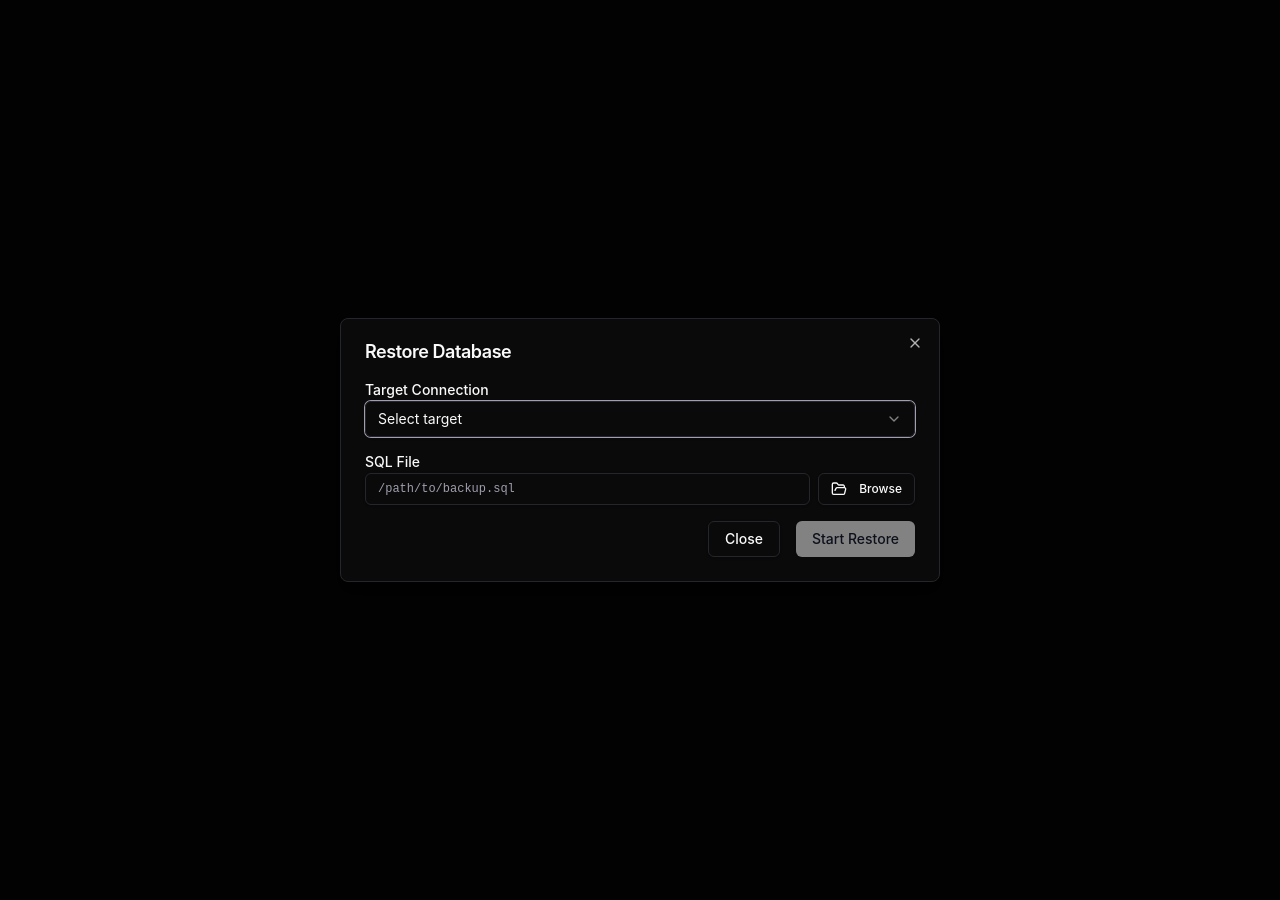
Test: enables start button when all fields are filled
Click the dropdown "Select target" at (420, 418), box [365,401,915,437]
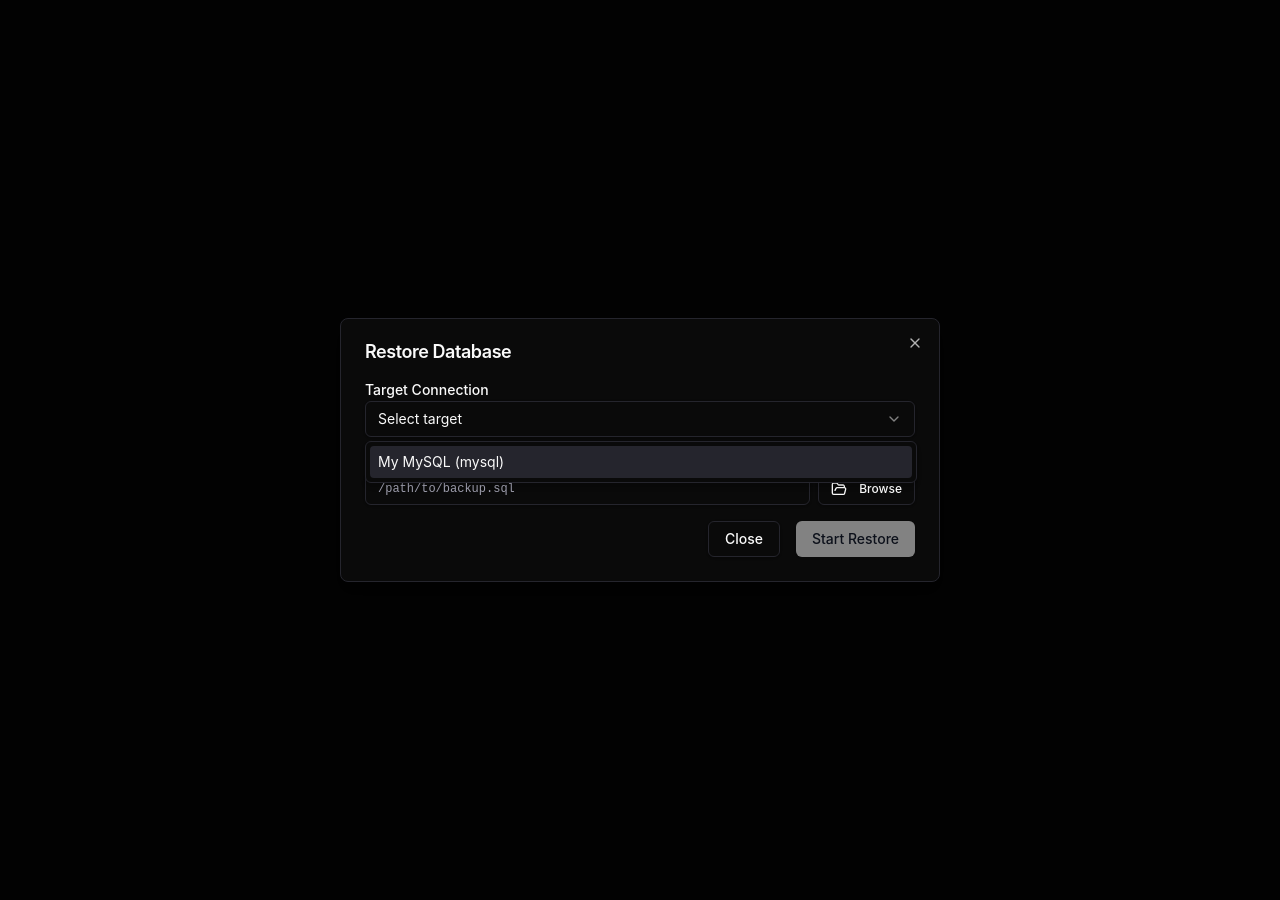
Click the option "My MySQL (mysql)" at (414, 462), box [370,446,912,478]
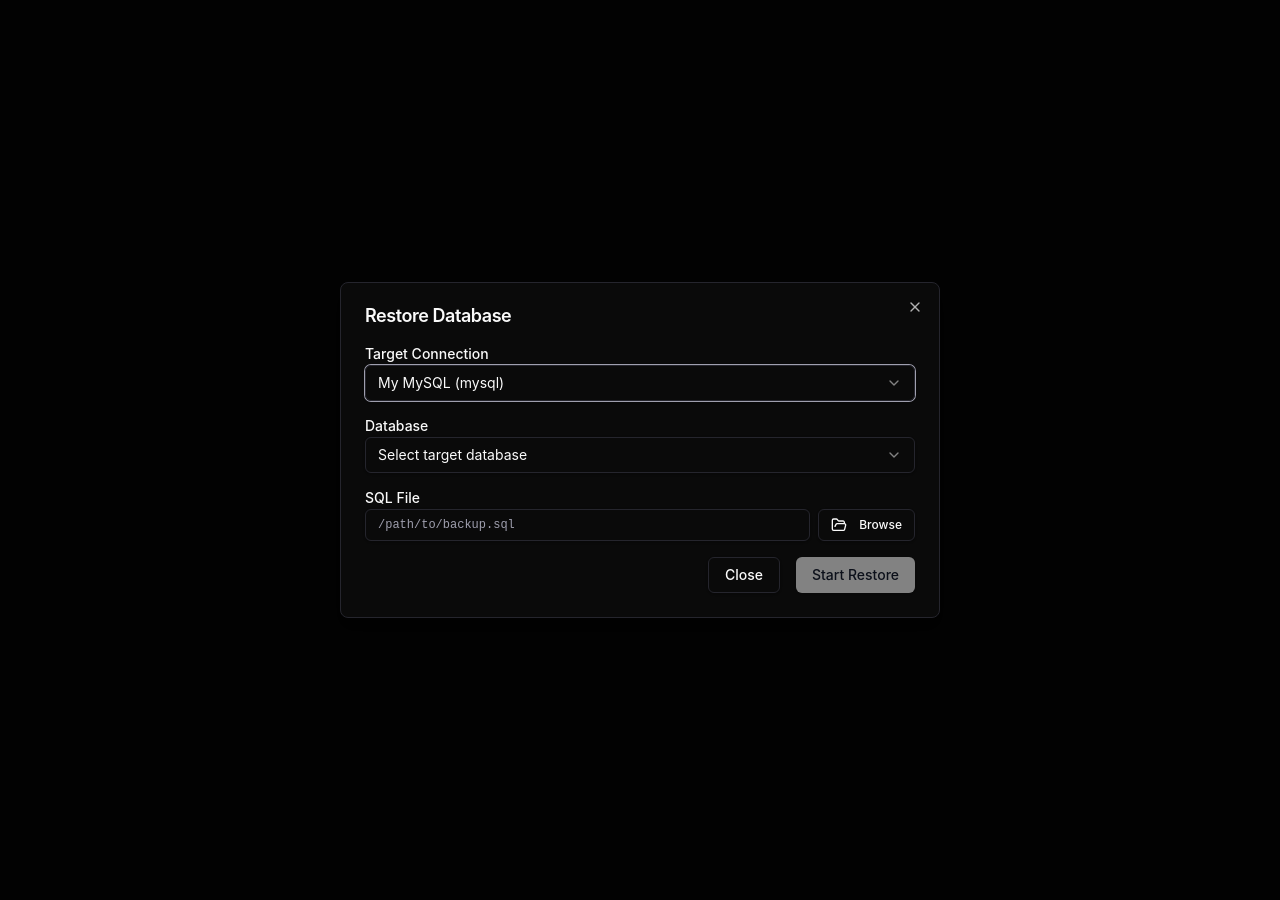
Result: the text "Select target database" is shown at [378,445,527,465]
Click the dropdown "Select target database" at (453, 454), box [365,437,915,473]
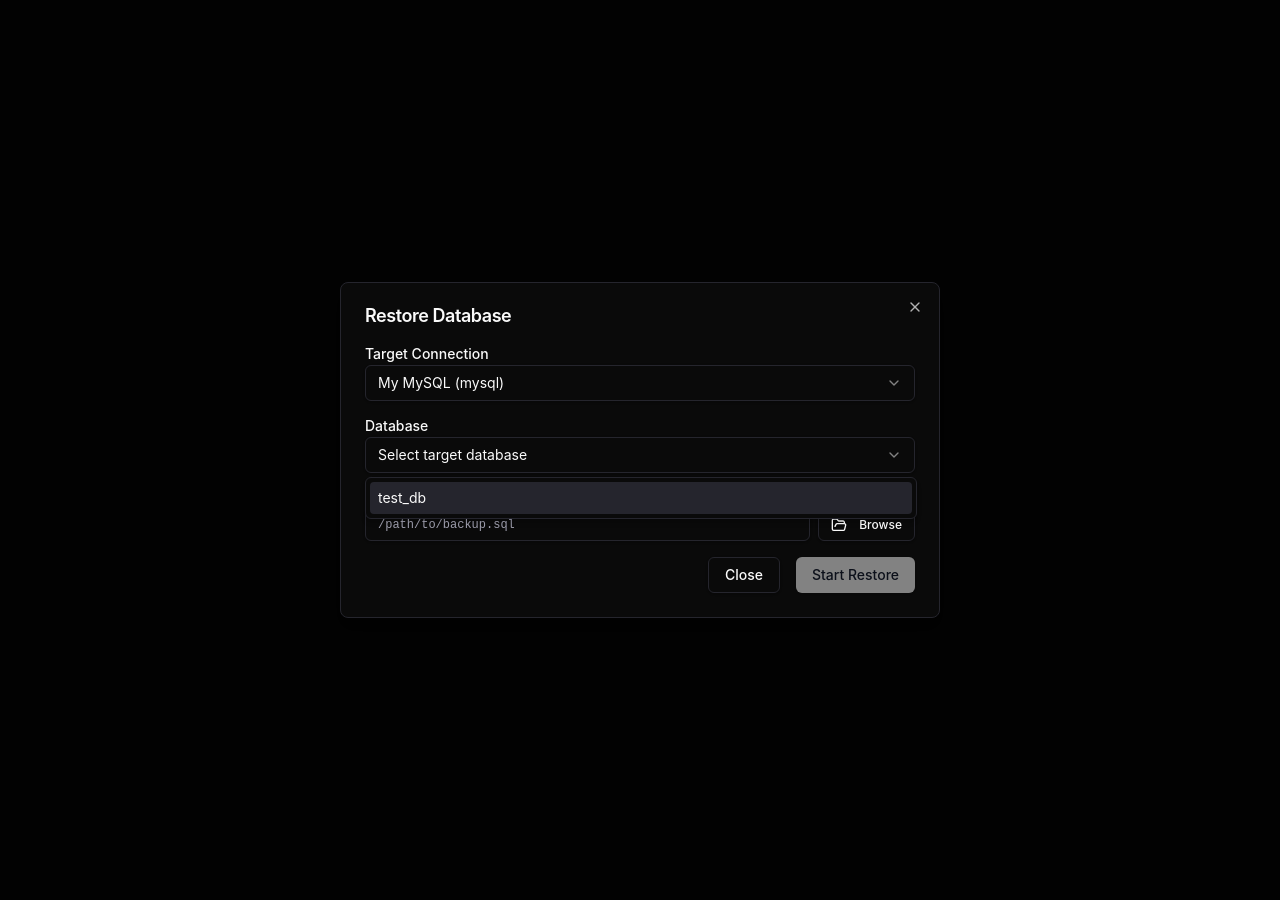
Click the option "test_db" at (402, 498), box [370,482,912,514]
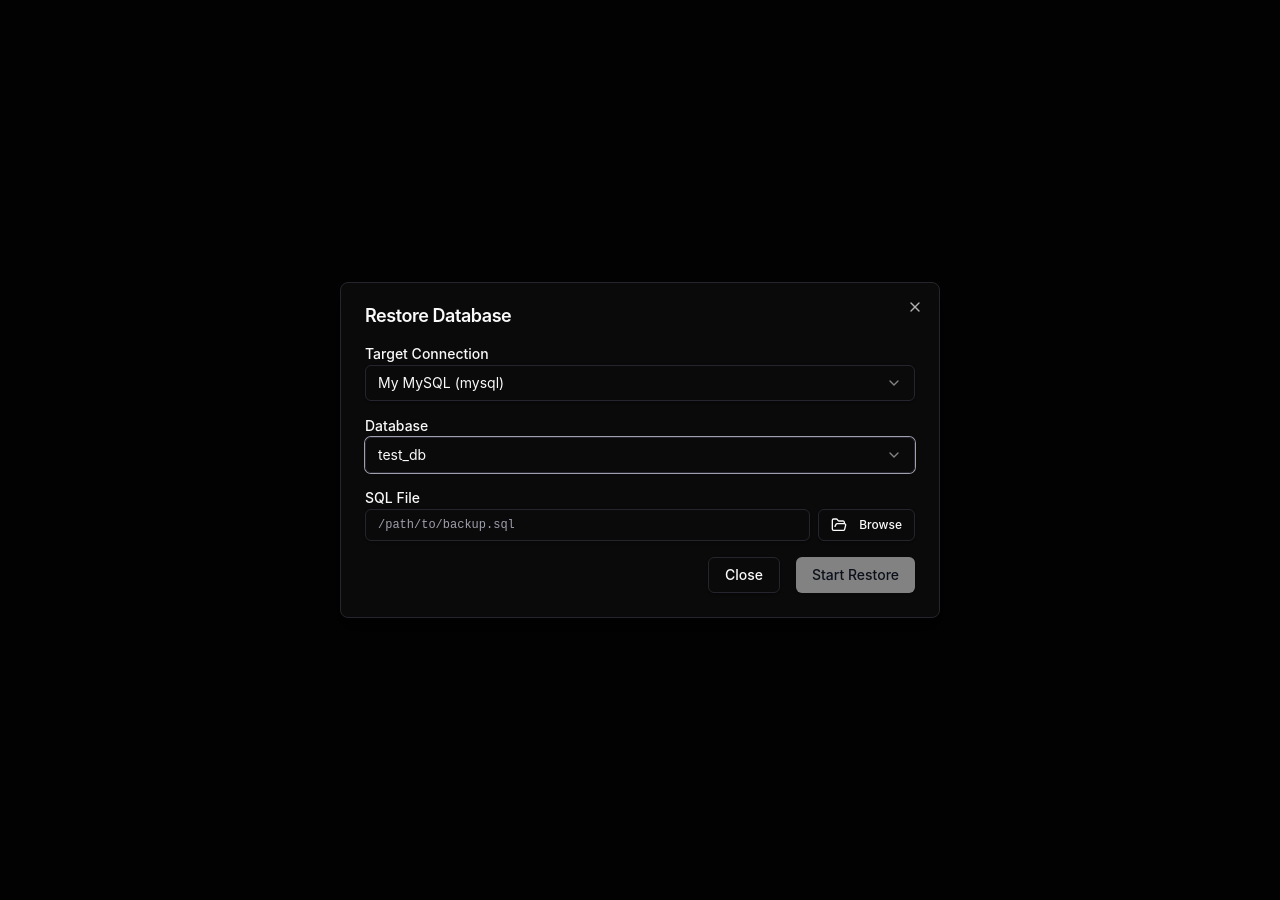
Type "/tmp/restore.sql" into the field with placeholder "/path/to/backup.sql" at (588, 525), box [365,509,810,541]
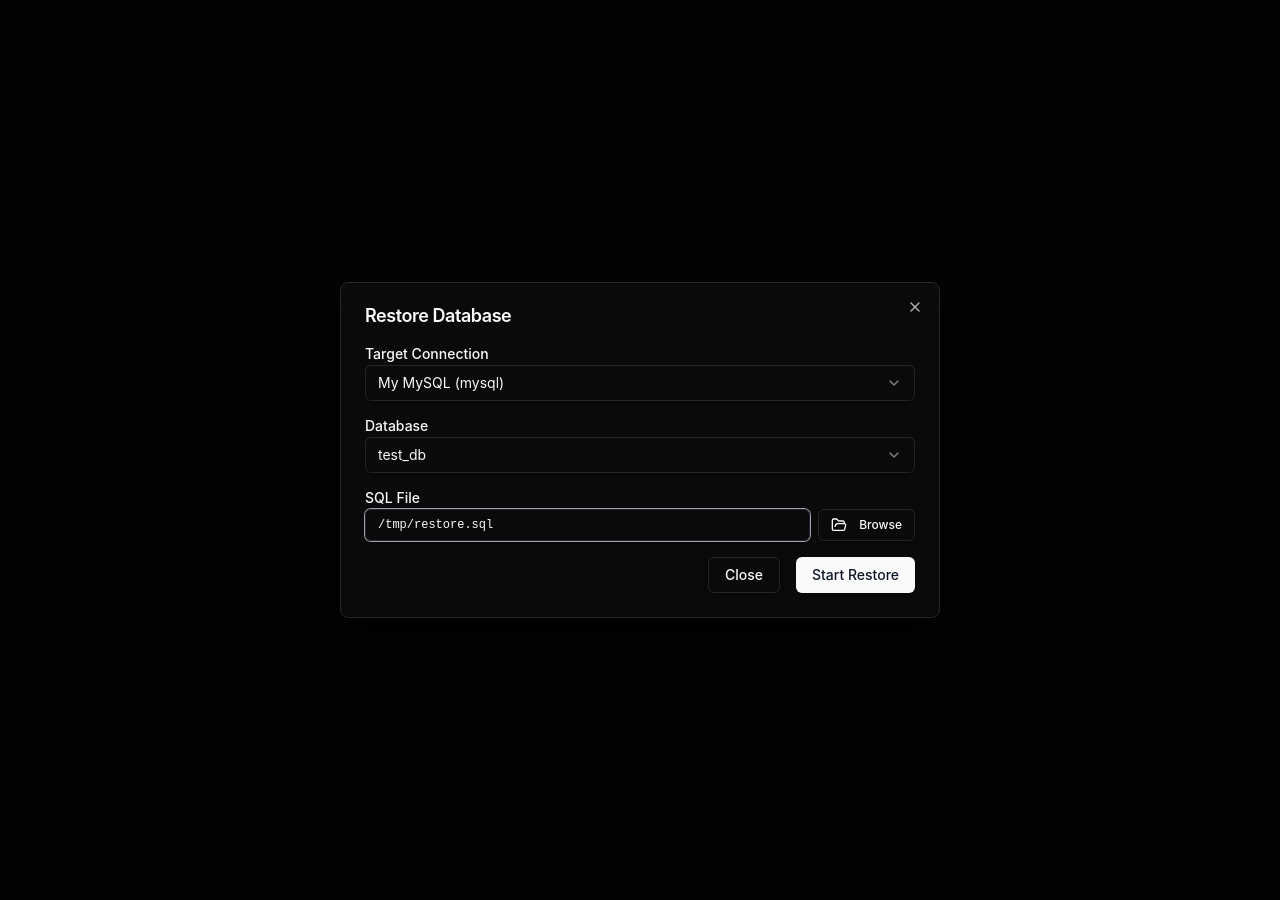
Result: the button "Start Restore" is enabled at [796,557,915,593]
